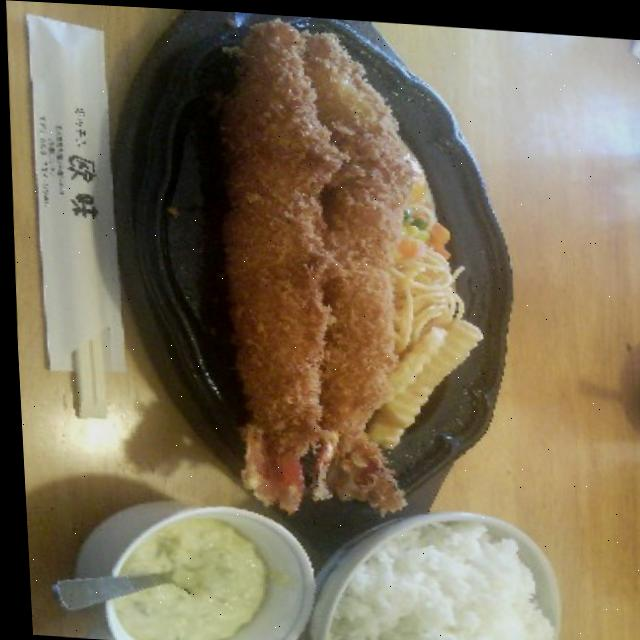炸货点心: (182, 7, 462, 520)
熟制海鲜: (182, 7, 462, 520)
